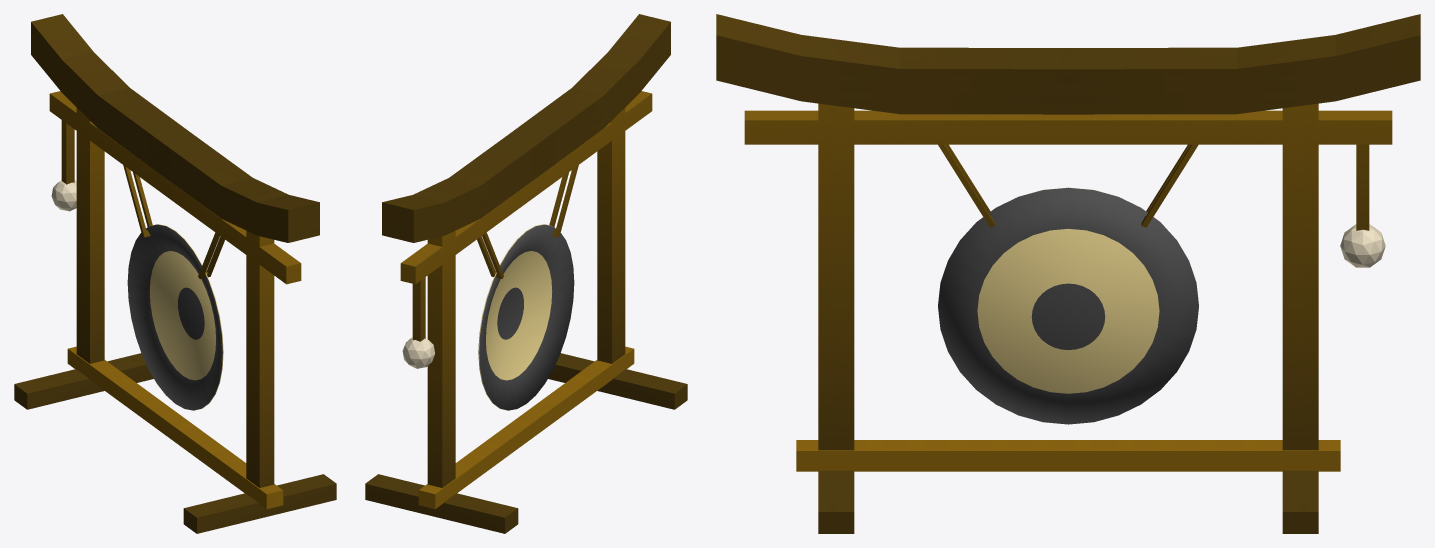
File: Raven_Gong.fbx
The picture shows the model from 3 angles, left to right: view 1: azimuth 30°, elevation 25°; view 2: azimuth 150°, elevation 25°; view 3: azimuth 270°, elevation 25°; orthographic projection. The views are drawn at different scales.
Parts seen in each view (by area): view 1: Cube.001, Cube.002, Circle, Cube, Cube.003, Icosphere; view 2: Cube.001, Cube.002, Circle, Cube, Cube.003, Icosphere; view 3: Cube.001, Circle, Cube.002, Cube, Cube.003, Icosphere.
Boxes of the visible parts, x1,y1,x2,y2 form: Cube.001: (14, 91, 336, 533); Cube.002: (31, 14, 319, 242); Circle: (127, 224, 223, 410); Cube: (67, 346, 283, 509); Cube.003: (61, 120, 224, 279); Icosphere: (51, 180, 76, 211); Cube.001: (365, 91, 687, 533); Cube.002: (382, 14, 670, 242); Circle: (478, 224, 574, 410); Cube: (418, 346, 634, 509); Cube.003: (412, 165, 578, 341); Icosphere: (402, 337, 434, 368); Cube.001: (744, 103, 1392, 533); Circle: (938, 187, 1198, 424); Cube.002: (716, 14, 1420, 114); Cube: (796, 440, 1340, 471); Cube.003: (938, 144, 1369, 230); Icosphere: (1340, 224, 1385, 267).
Bounding box in the file's own units: 83.19 × 192 × 265.
Materials: 4 (1 with a texture image).
